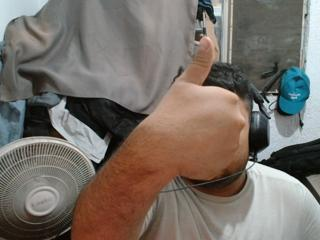Adelante: (123, 32, 250, 185)
